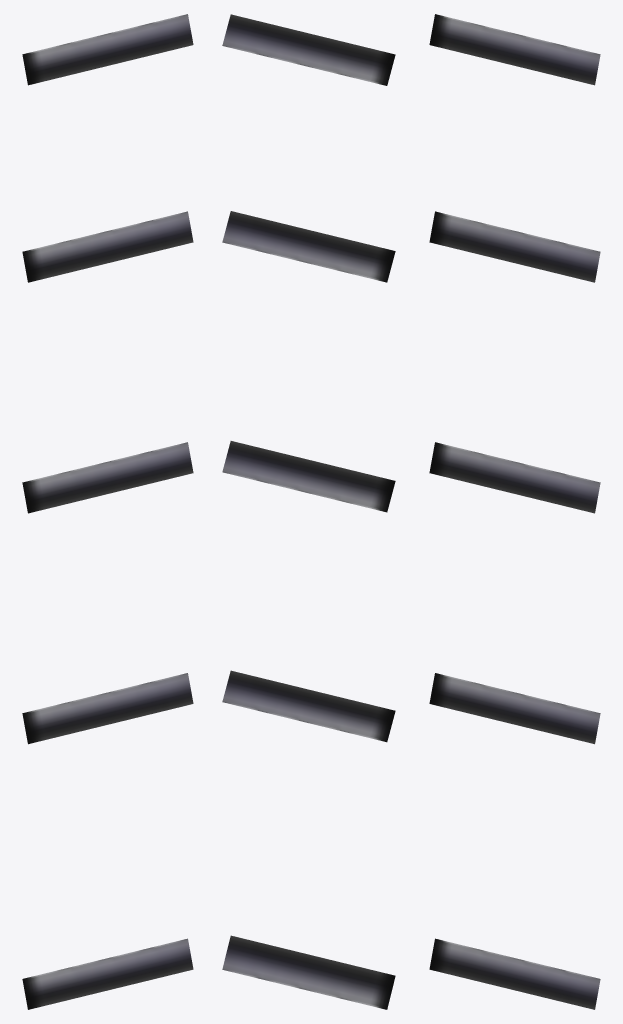
3 views of the same model, side by side, from view 1: azimuth 30°, elevation 25°; view 2: azimuth 150°, elevation 25°; view 3: azimuth 330°, elevation 25° (orthographic).
Visible parts, largest first — view 1: Plane13; view 2: Plane13; view 3: Plane13.
Boxes of the visible parts, x1,y1,x2,y2 form: Plane13: [22, 14, 193, 1009]; Plane13: [222, 14, 395, 1009]; Plane13: [429, 14, 600, 1009].
Bounding box in the file's own units: 69.08 × 380 × 9.78.
Materials: 1 (1 with a texture image).
